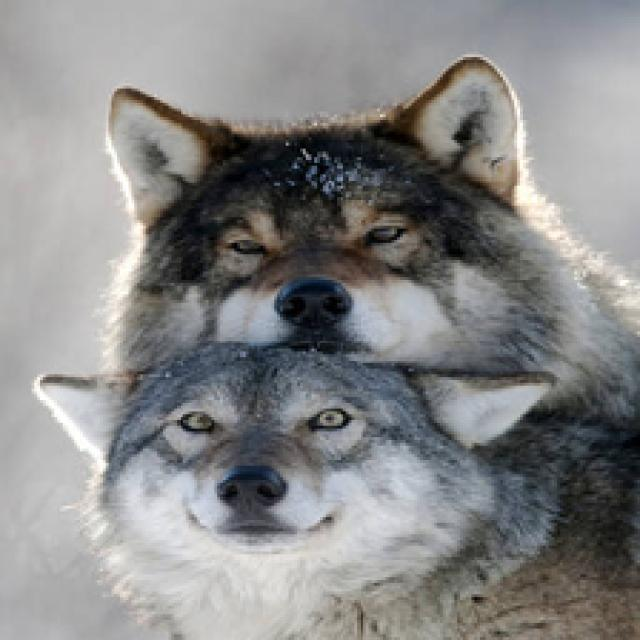wolf: (72, 48, 639, 388), (28, 339, 640, 634)
